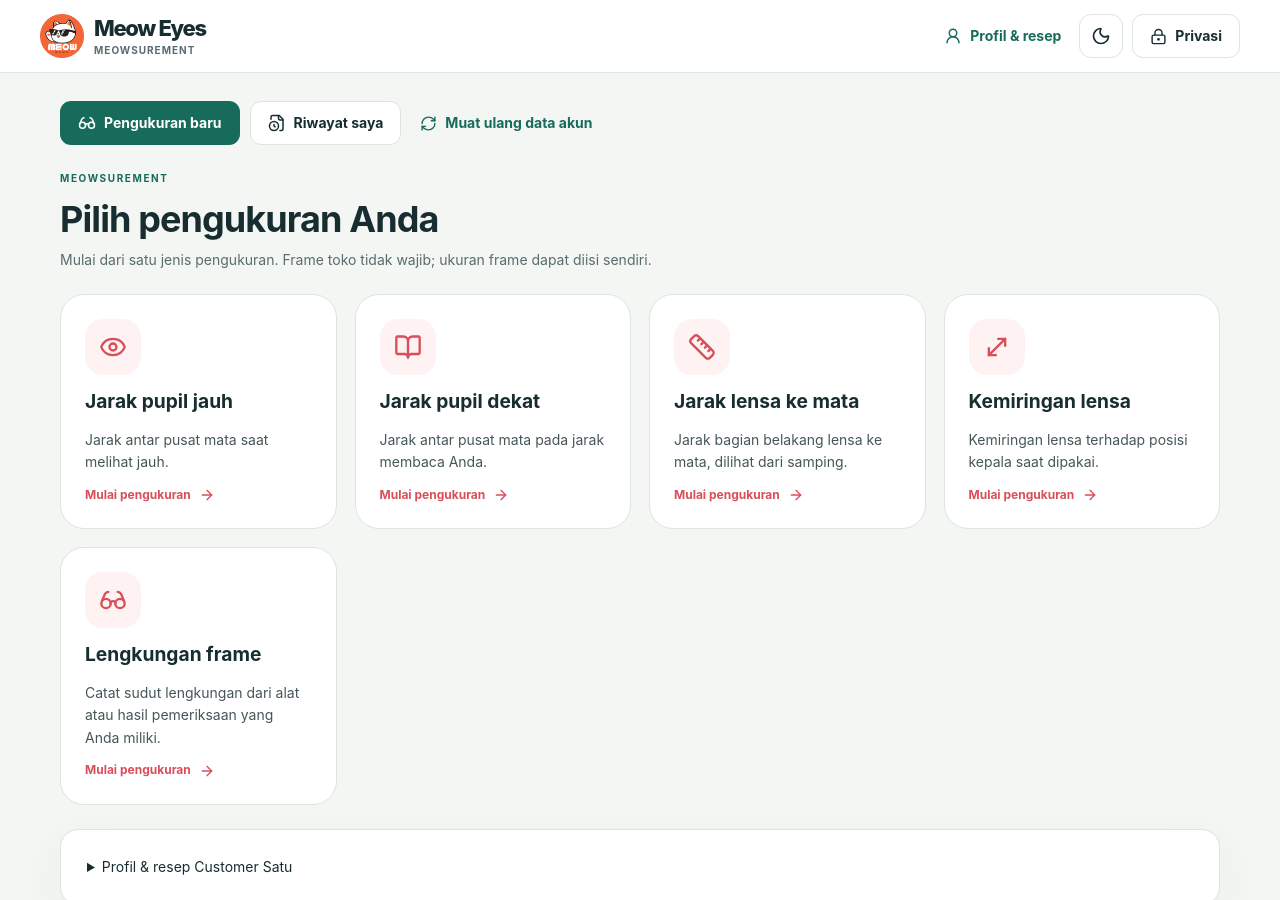
dashboard opens only the selected measurement and leaves other parameters hidden
Click the button with test id "measurement-card-near_pd": (493,412) x1=354 y1=294 x2=631 y2=529
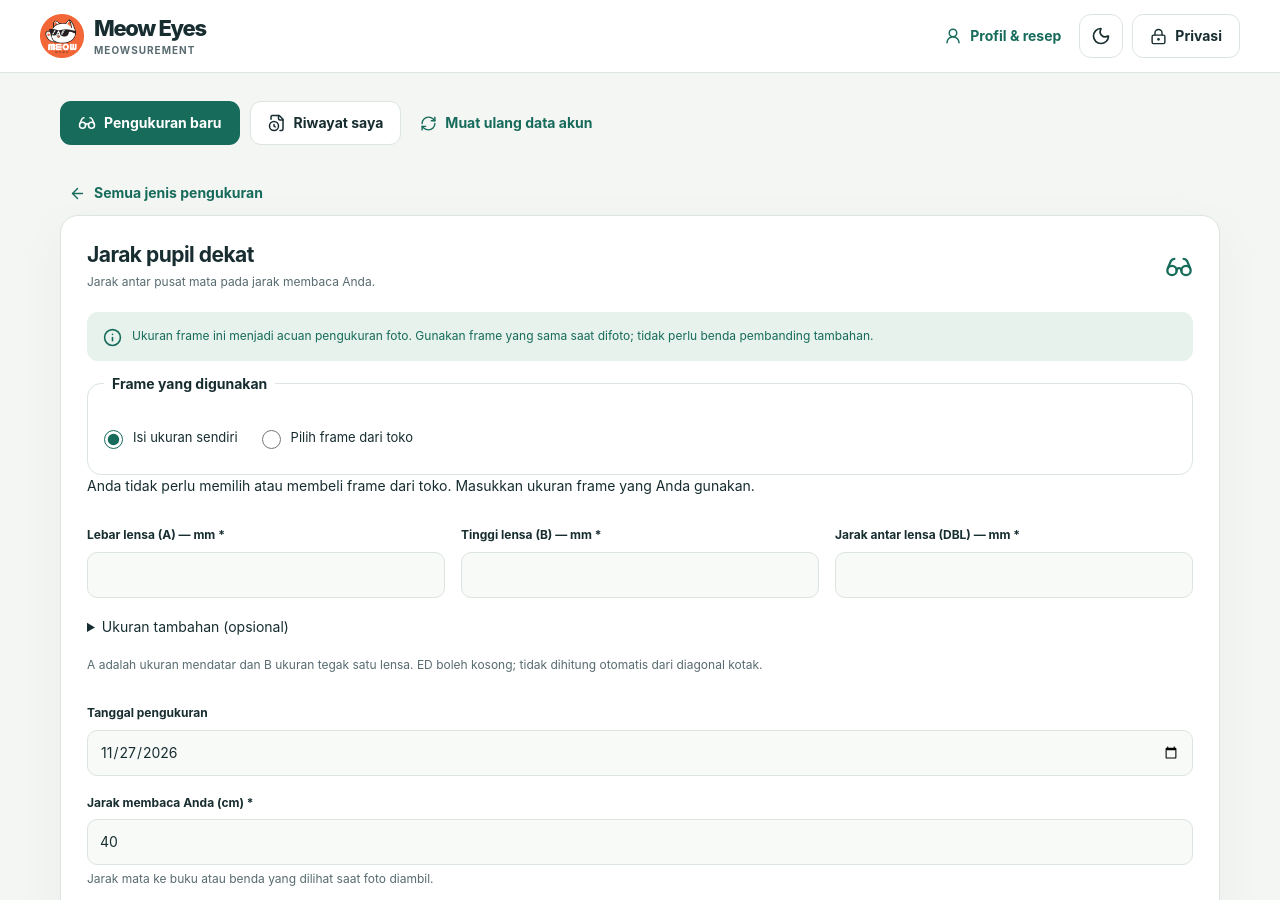
Now the number field named "Jarak membaca" is shown, box x1=87 y1=819 x2=1193 y2=865
Now the number field labelled "Lebar lensa (A) — mm *" is shown, box x1=87 y1=552 x2=445 y2=598
Click the button "Semua jenis pengukuran": (166,193) x1=60 y1=171 x2=272 y2=215
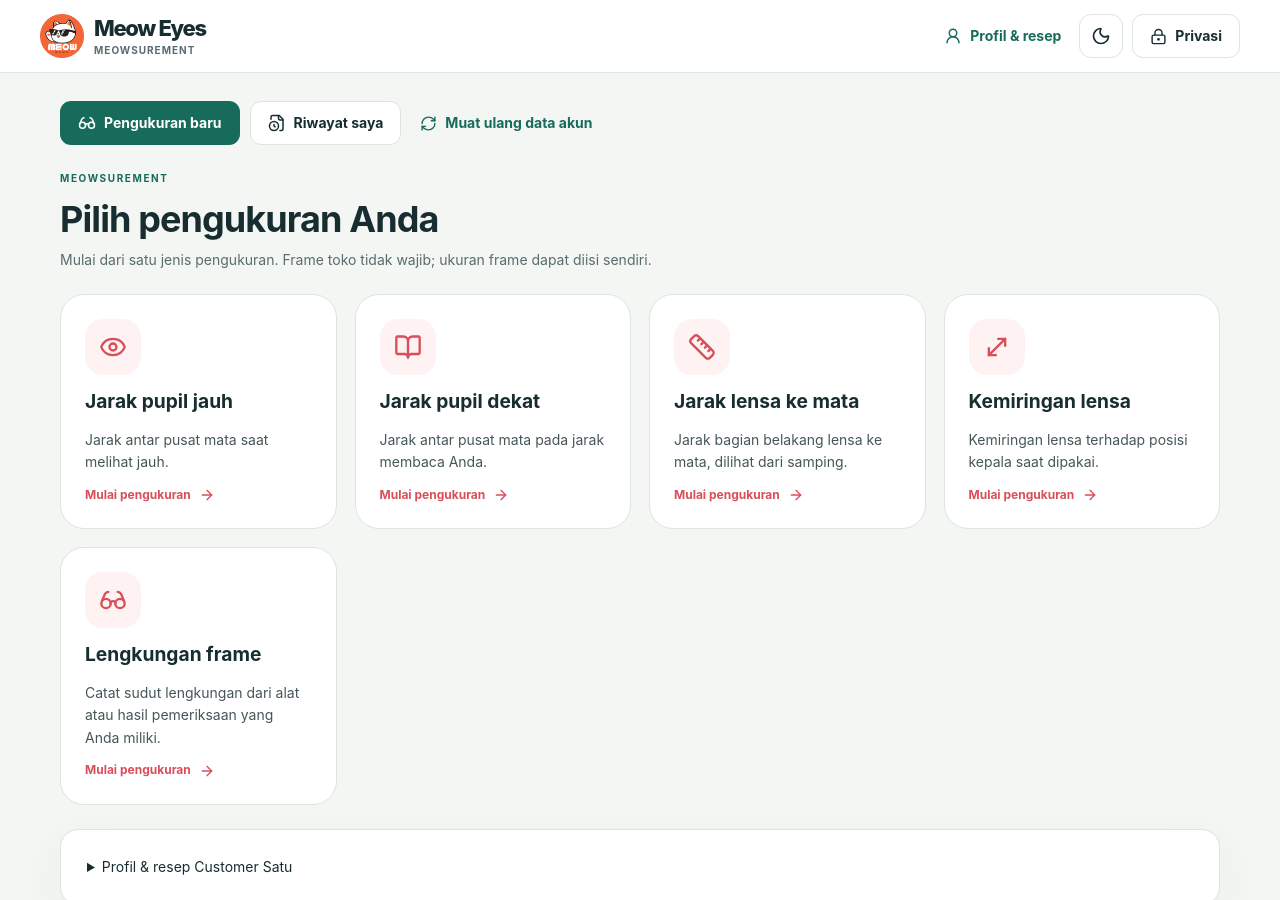
Click the button with test id "measurement-card-vertex": (787,412) x1=649 y1=294 x2=926 y2=529
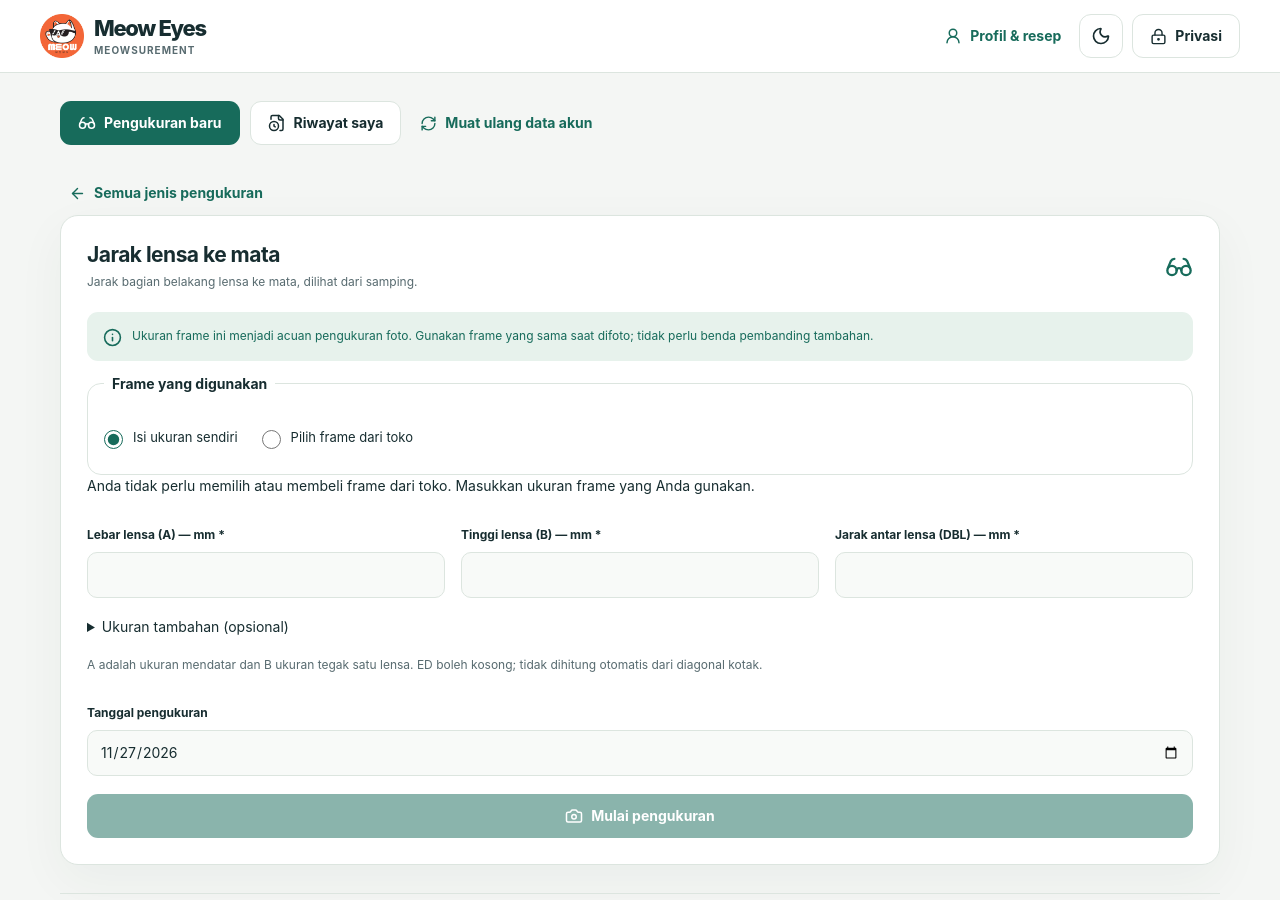
Now the element with test id "measurement-setup-vertex" is shown
